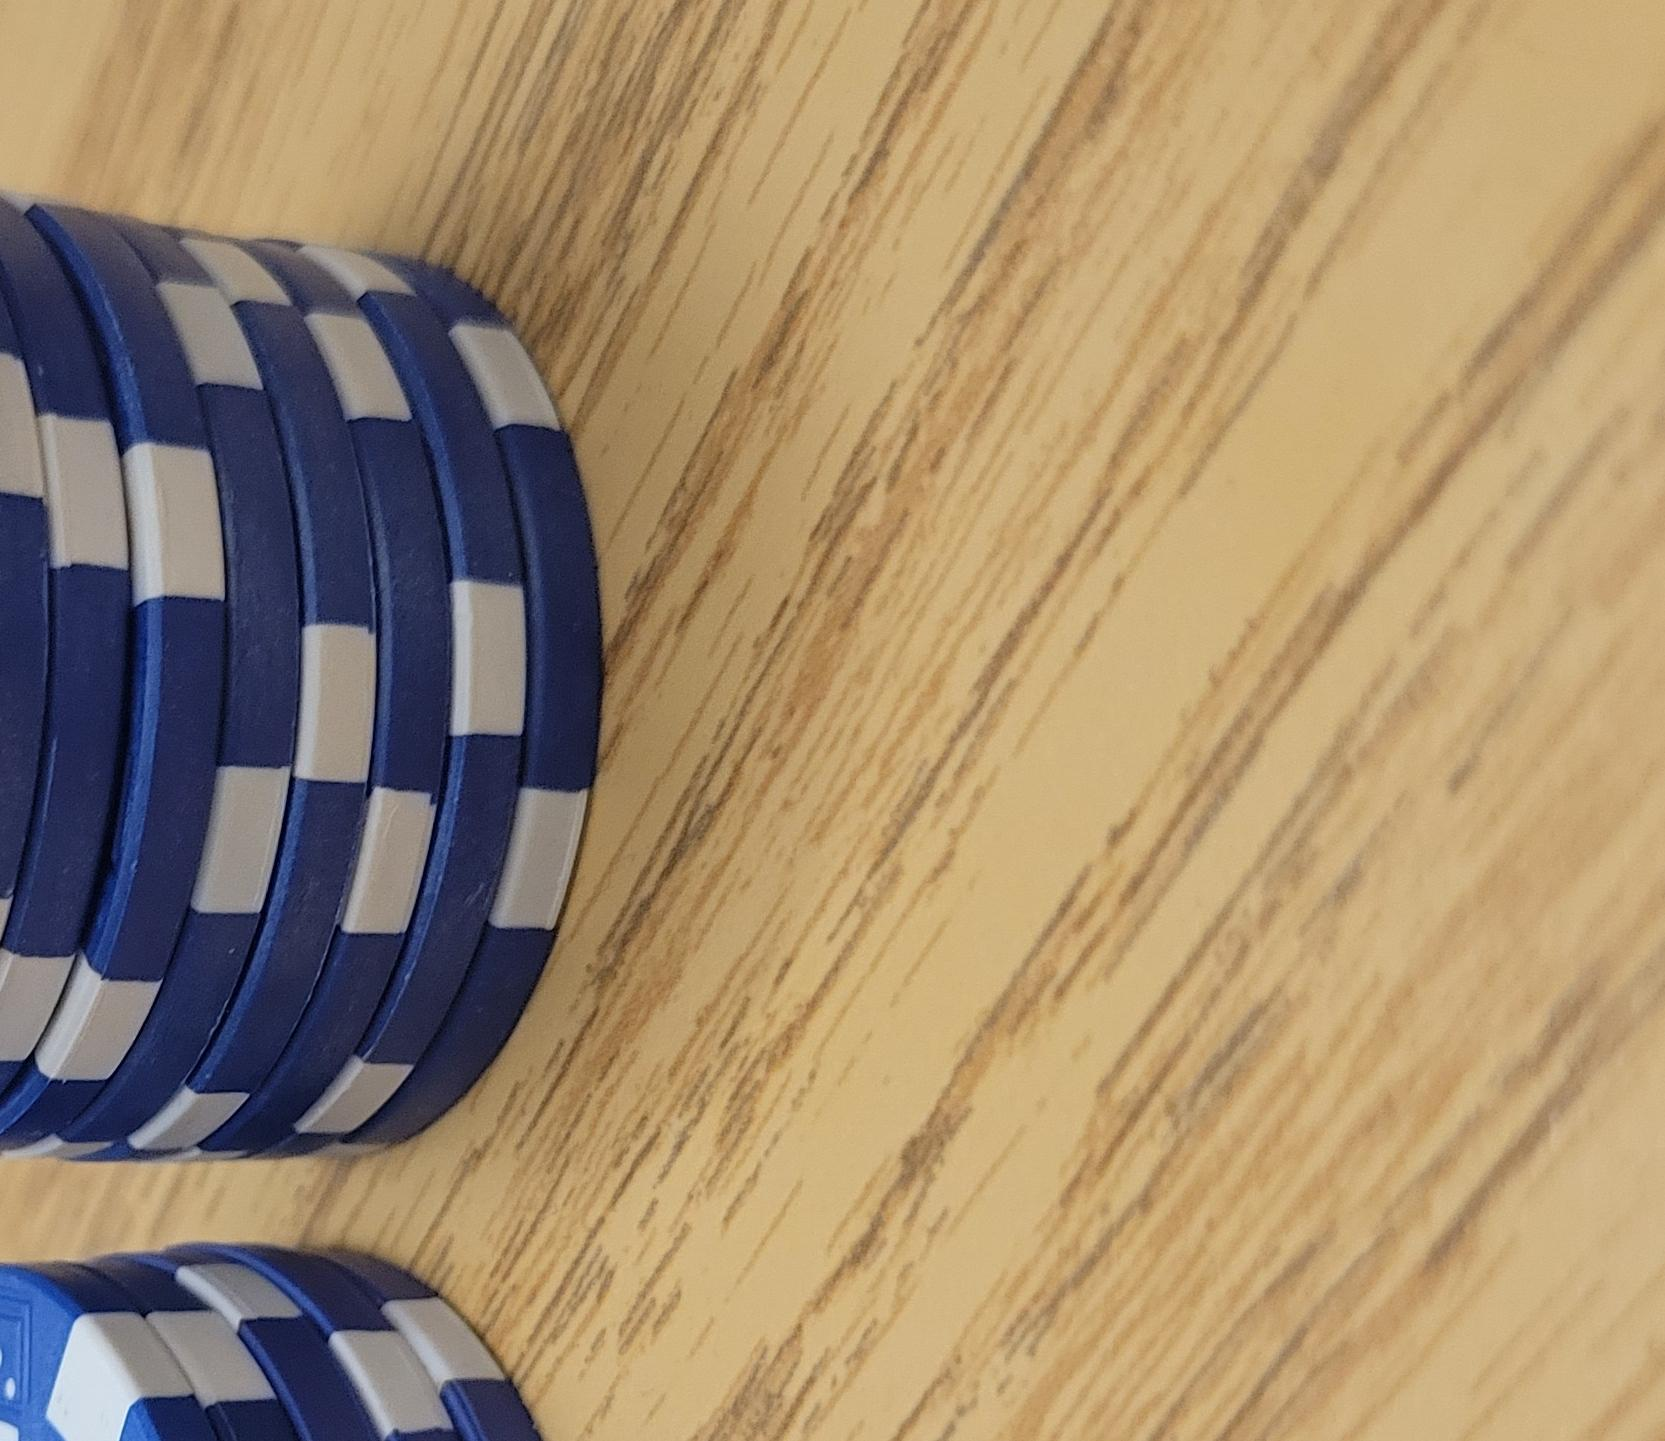Chip: (1, 133, 772, 1441)
